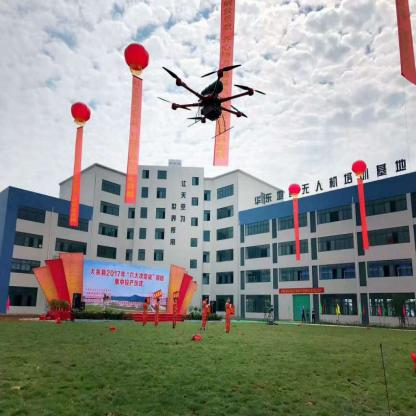drone: (154, 53, 268, 140)
